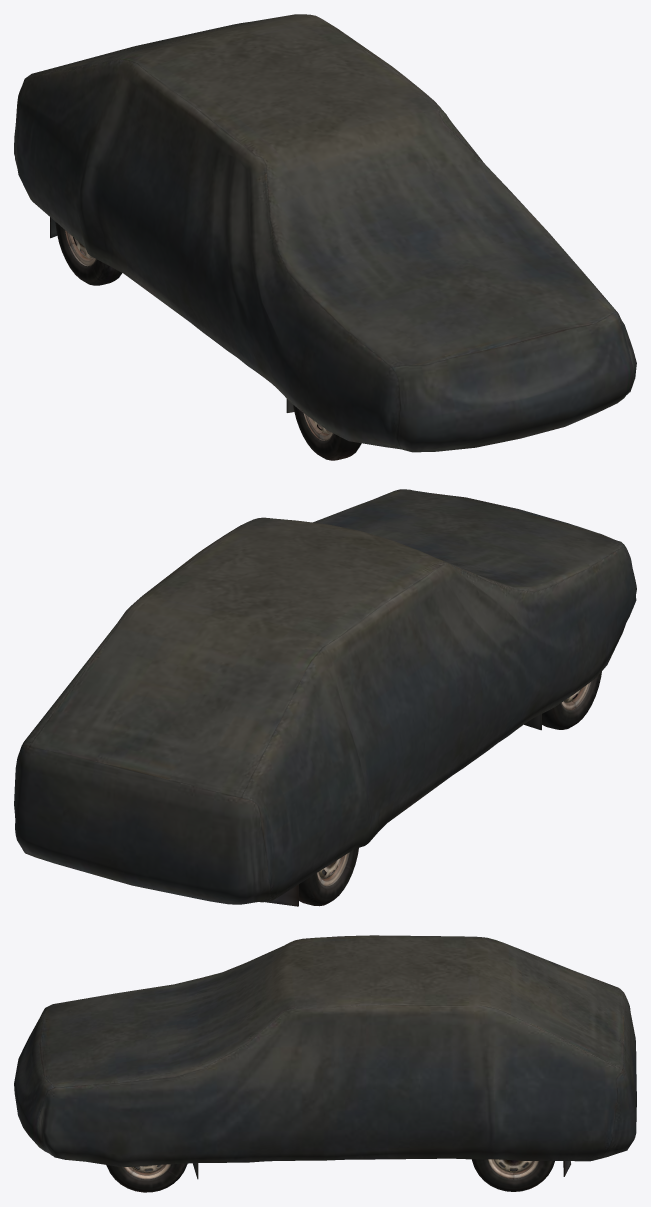
The model's file is covered_car.glb.
3 views of the same model, one above another, from view 1: azimuth 30°, elevation 25°; view 2: azimuth 150°, elevation 25°; view 3: azimuth 270°, elevation 25° (orthographic). The views are drawn at different scales.
Visible parts, largest first — view 1: covered_car, covered_car_wheel_03, covered_car_wheel_02; view 2: covered_car, covered_car_wheel_03, covered_car_wheel_02; view 3: covered_car, covered_car_wheel_04, covered_car_wheel_01.
Boxes of the visible parts, x1,y1,x2,y2 form: covered_car: [14, 14, 636, 452]; covered_car_wheel_03: [55, 222, 121, 285]; covered_car_wheel_02: [293, 405, 361, 460]; covered_car: [14, 489, 636, 906]; covered_car_wheel_03: [299, 848, 358, 906]; covered_car_wheel_02: [542, 672, 601, 729]; covered_car: [14, 935, 636, 1179]; covered_car_wheel_04: [472, 1159, 554, 1191]; covered_car_wheel_01: [106, 1163, 187, 1192].
Bounding box in the file's own units: 1.79 × 1.41 × 4.38.
2 materials, 2 textured.
